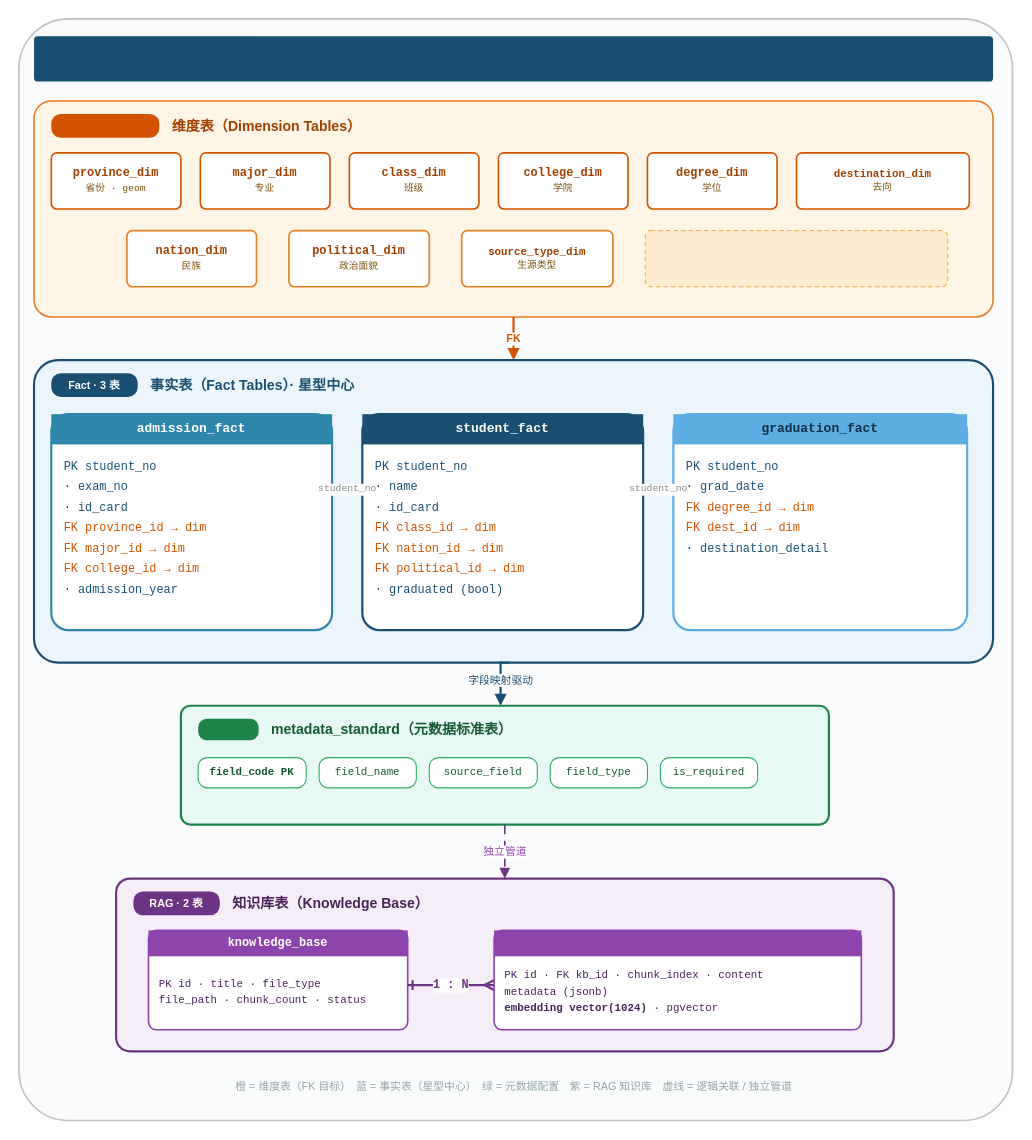
Some shapes in this 1032 by 1140 pixel diagram are drawn without their labels. The centre of each missing label's shape, as x and y in pixels:
"+ student_dim · archive_file_dim ocr_log_dim · quality_score_dim" goes at (796,258).
"Config" goes at (228,729).
"Dimension · 9 维" goes at (105,125).
"knowledge_chunks" goes at (677,943).
"数据库 ER 图 · 星型模式（Star Schema）" goes at (513,58).
